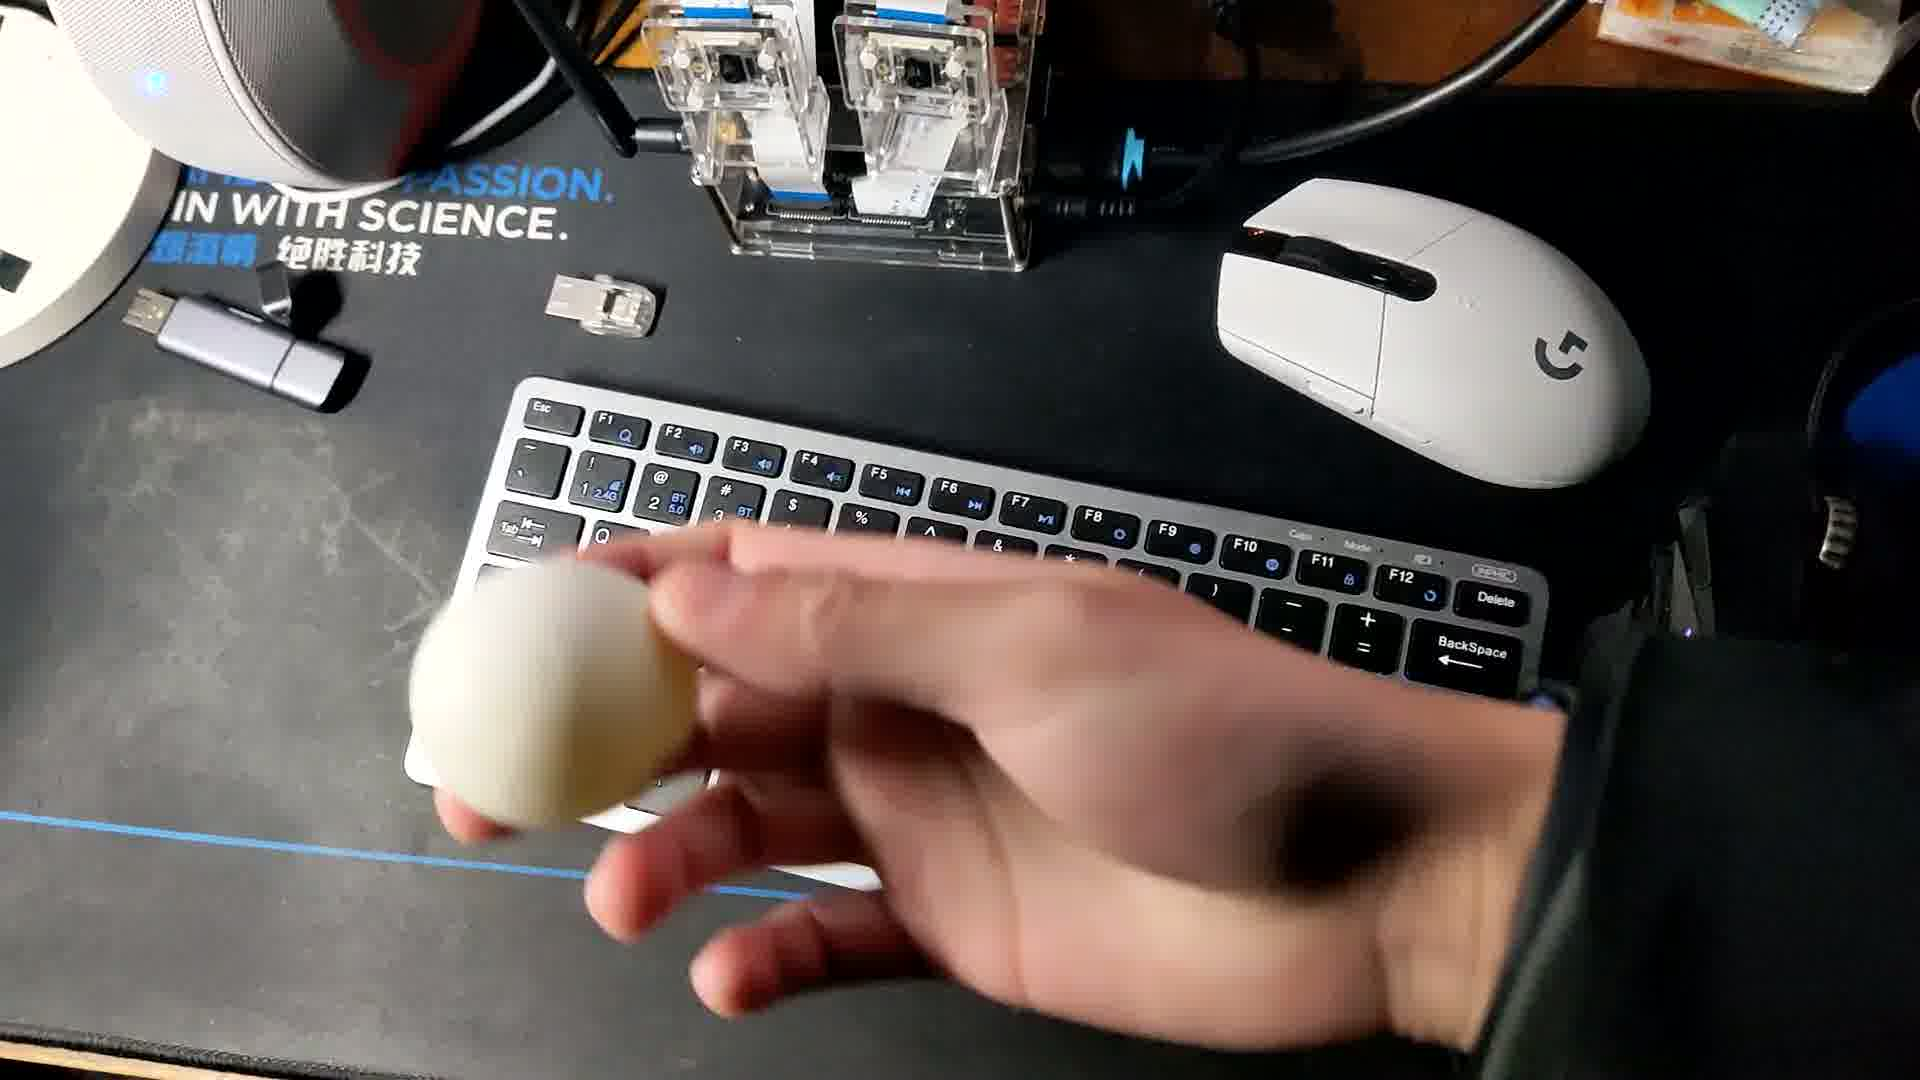Ball: (415, 562, 705, 844)
